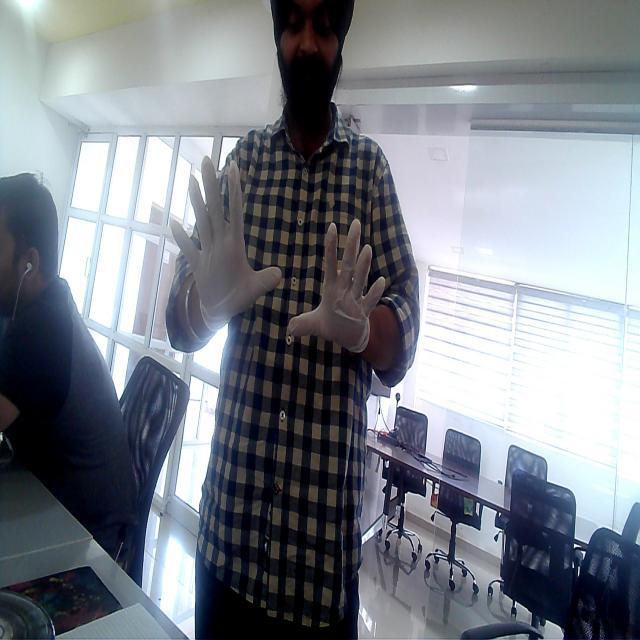with_gloves: (163, 169, 276, 336), (270, 226, 386, 382)
